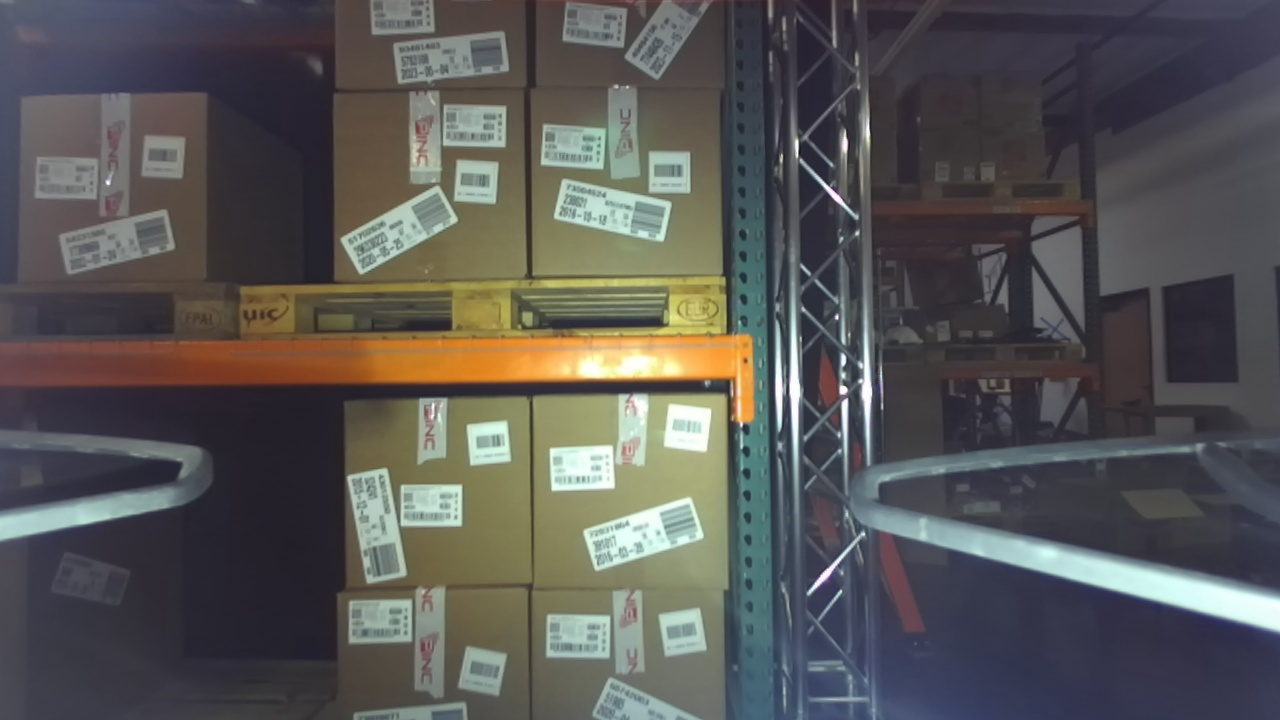box: (509, 373, 761, 635), (315, 376, 557, 616), (502, 70, 750, 295), (307, 73, 556, 294), (3, 78, 233, 293), (515, 557, 756, 719), (315, 569, 550, 716)
